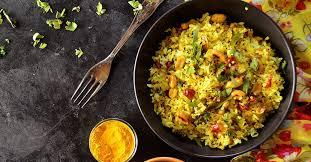poha: (150, 11, 288, 147)
